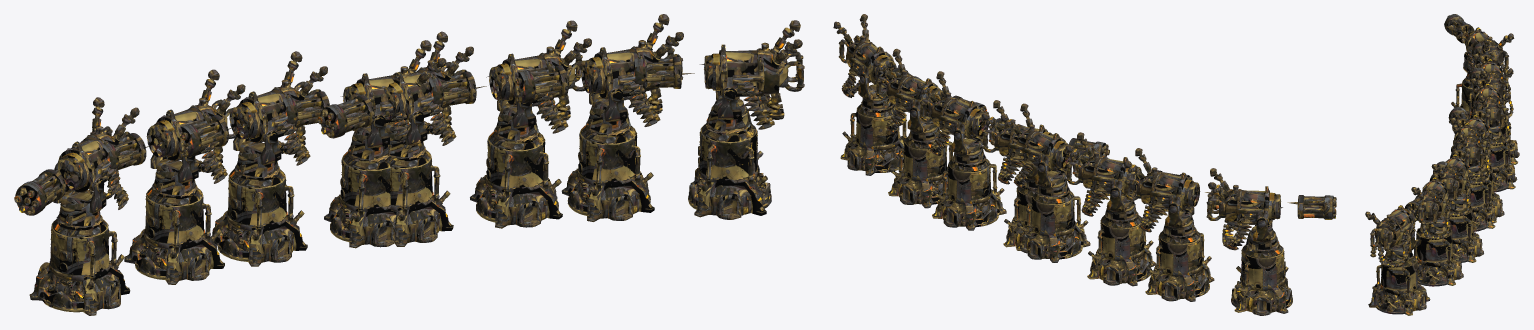
The model's file is flakbattery_kitbash_gatling_v01_prepared.fbx.
3 renders of one model, left to right at view 1: azimuth 30°, elevation 25°; view 2: azimuth 150°, elevation 25°; view 3: azimuth 270°, elevation 25°, orthographic. The views are drawn at different scales.
Visible parts, largest first — view 1: LTW_FlakBattery_Kitbash; view 2: LTW_FlakBattery_Kitbash; view 3: LTW_FlakBattery_Kitbash.
Boxes of the visible parts, x1,y1,x2,y2 form: LTW_FlakBattery_Kitbash: [14, 14, 804, 315]; LTW_FlakBattery_Kitbash: [833, 14, 1336, 315]; LTW_FlakBattery_Kitbash: [1365, 14, 1519, 315].
Bounding box in the file's own units: 313 × 68.92 × 91.95.
